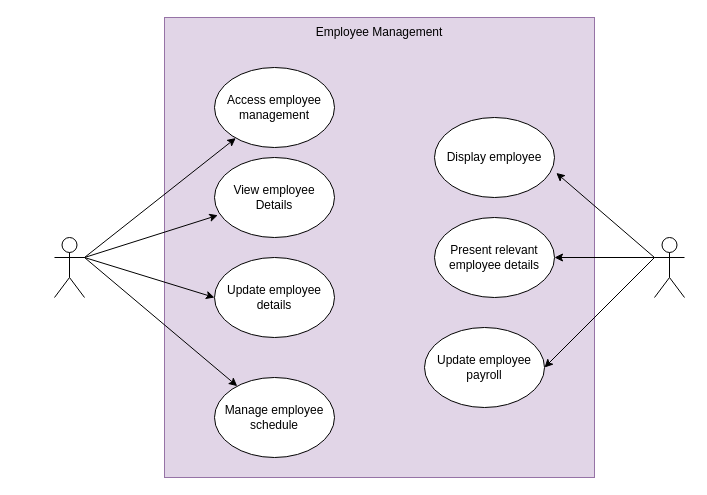
Some shapes in this 707 by 495 pixel diagram are drawn without their labels. Here are the shapes that lost their labels. From the top down, the box of each, then its label:
(54, 236, 84, 298): Pharmacy Manager
(654, 236, 684, 298): System
